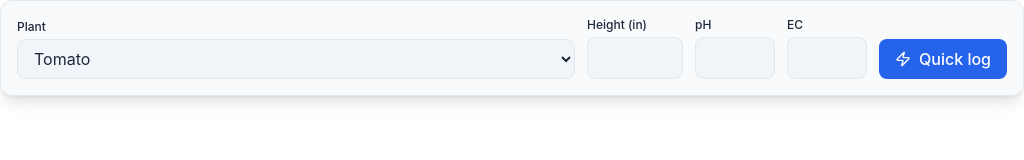
QuickLogForm (MR-47) › blocks submit with the shared validator message when height is blank
Step 1. Click the button "Quick log" → (943, 59), box x1=879 y1=39 x2=1007 y2=79
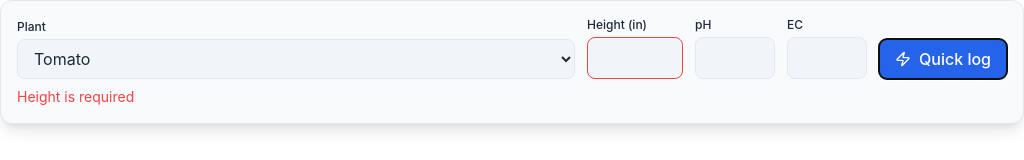
Now the text "Height is required" is shown, box x1=17 y1=88 x2=134 y2=105
